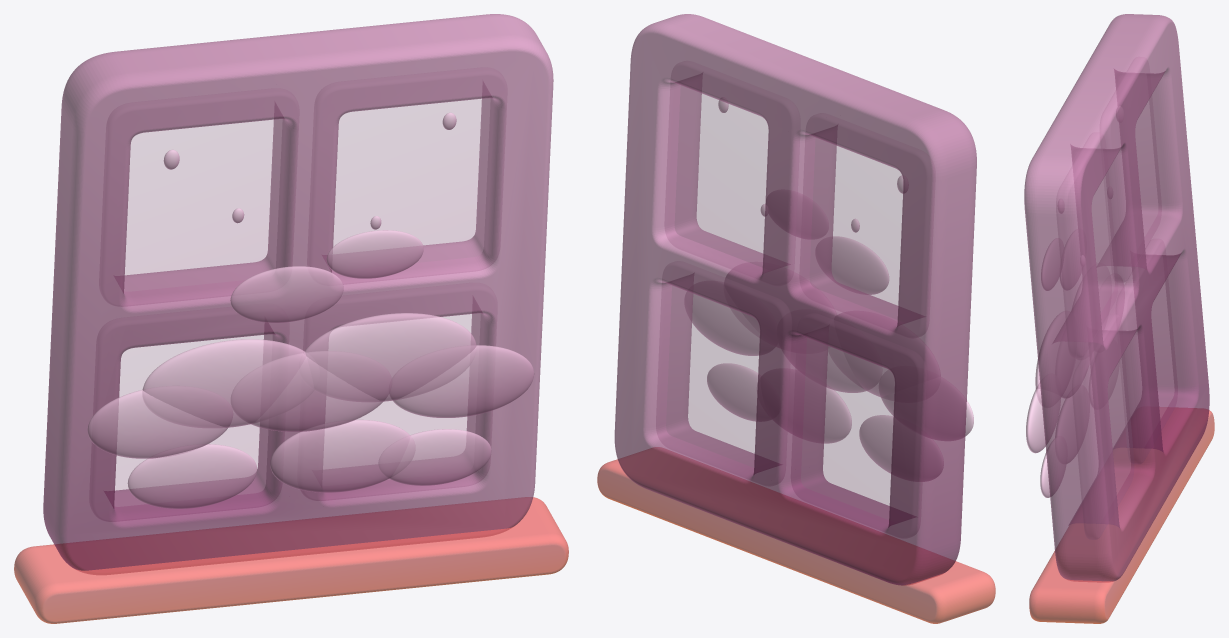
Rendered from foggy-window.glb.
3 views of the same model, side by side, from view 1: azimuth 30°, elevation 25°; view 2: azimuth 150°, elevation 25°; view 3: azimuth 270°, elevation 25° (orthographic). The views are drawn at different scales.
Parts seen in each view (by area): view 1: frame, sill, pane_1, pane_2, fog_2, fog_4, fog_3, fog_7, fog_1, fog_5, fog_6, pane_3 (+4 smaller); view 2: frame, sill, pane_1, pane_4, pane_2, pane_3, fog_1, fog_2, fog_5, fog_9, fog_8, fog_6 (+3 smaller); view 3: frame, sill, fog_4, pane_3, pane_1, pane_2, pane_4, fog_5, fog_8, fog_7, fog_10.
Part boxes in pixels (bbox=[...]): frame: bbox=[43, 14, 553, 574]; sill: bbox=[14, 497, 568, 623]; pane_1: bbox=[124, 119, 282, 291]; pane_2: bbox=[333, 98, 490, 262]; fog_2: bbox=[142, 339, 313, 427]; fog_4: bbox=[304, 313, 476, 401]; fog_3: bbox=[231, 351, 391, 431]; fog_7: bbox=[270, 419, 414, 492]; fog_1: bbox=[87, 386, 232, 458]; fog_5: bbox=[390, 345, 534, 417]; fog_6: bbox=[127, 444, 257, 508]; pane_3: bbox=[114, 334, 272, 506]; frame: bbox=[614, 14, 976, 585]; sill: bbox=[597, 447, 995, 623]; pane_1: bbox=[809, 138, 903, 319]; pane_4: bbox=[666, 285, 759, 467]; pane_2: bbox=[674, 85, 768, 267]; pane_3: bbox=[801, 338, 894, 519]; fog_1: bbox=[881, 377, 973, 440]; fog_2: bbox=[834, 313, 940, 397]; fog_5: bbox=[692, 294, 759, 355]; fog_9: bbox=[831, 236, 888, 294]; fog_8: bbox=[707, 363, 758, 421]; fog_6: bbox=[859, 415, 943, 481]; frame: bbox=[1024, 14, 1209, 581]; sill: bbox=[1029, 408, 1214, 623]; fog_4: bbox=[1035, 311, 1074, 404]; pane_3: bbox=[1151, 282, 1174, 419]; pane_1: bbox=[1135, 100, 1158, 237]; pane_2: bbox=[1091, 176, 1114, 312]; pane_4: bbox=[1107, 357, 1130, 494]; fog_5: bbox=[1026, 383, 1060, 453]; fog_8: bbox=[1040, 437, 1066, 497]; fog_7: bbox=[1055, 396, 1077, 463]; fog_10: bbox=[1041, 238, 1061, 290].
Size of the model in its own units: 0.927 by 1.02 by 0.3879.
